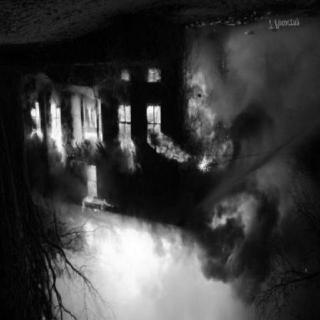Fire: (23, 53, 237, 295)
